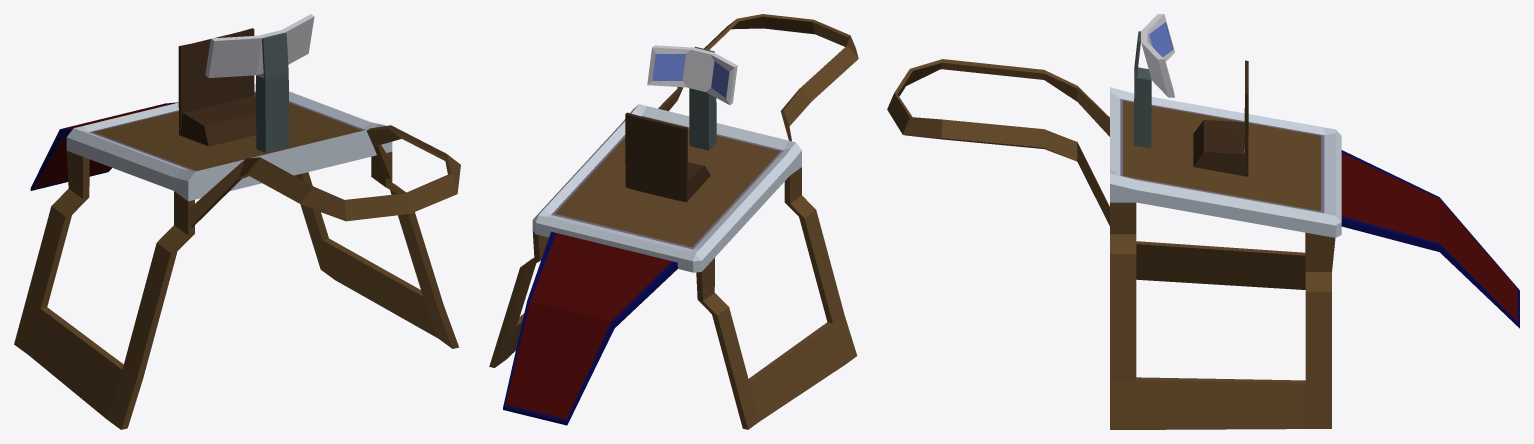
File: MammothSaddle.fbx
3 views of the same model, side by side, from view 1: azimuth 30°, elevation 25°; view 2: azimuth 150°, elevation 25°; view 3: azimuth 270°, elevation 25° (orthographic). The views are drawn at different scales.
Parts seen in each view (by area): view 1: Cube; view 2: Cube; view 3: Cube.
Boxes of the visible parts, x1,y1,x2,y2 form: Cube: [14, 14, 460, 429]; Cube: [489, 14, 858, 429]; Cube: [887, 14, 1519, 429].
Size of the model in its own units: 231 by 227 by 404.
